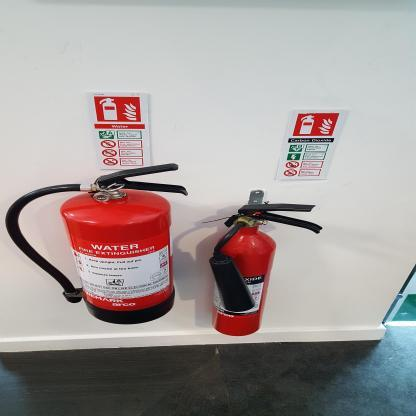Fire Extinguisher: (0, 157, 192, 347), (200, 169, 329, 373)
